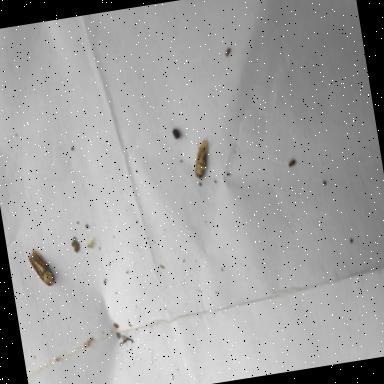pbw: (26, 246, 56, 288), (190, 138, 214, 180)
